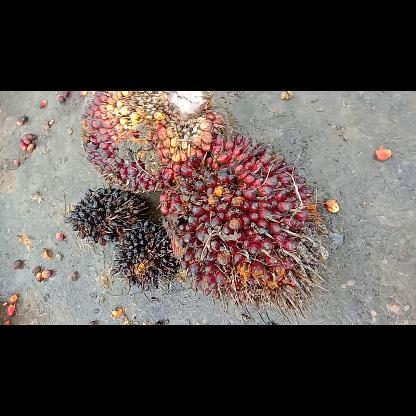TBS abnormal: (61, 184, 155, 248), (108, 216, 186, 292)
TBS masak: (157, 130, 331, 324), (78, 91, 228, 195)
